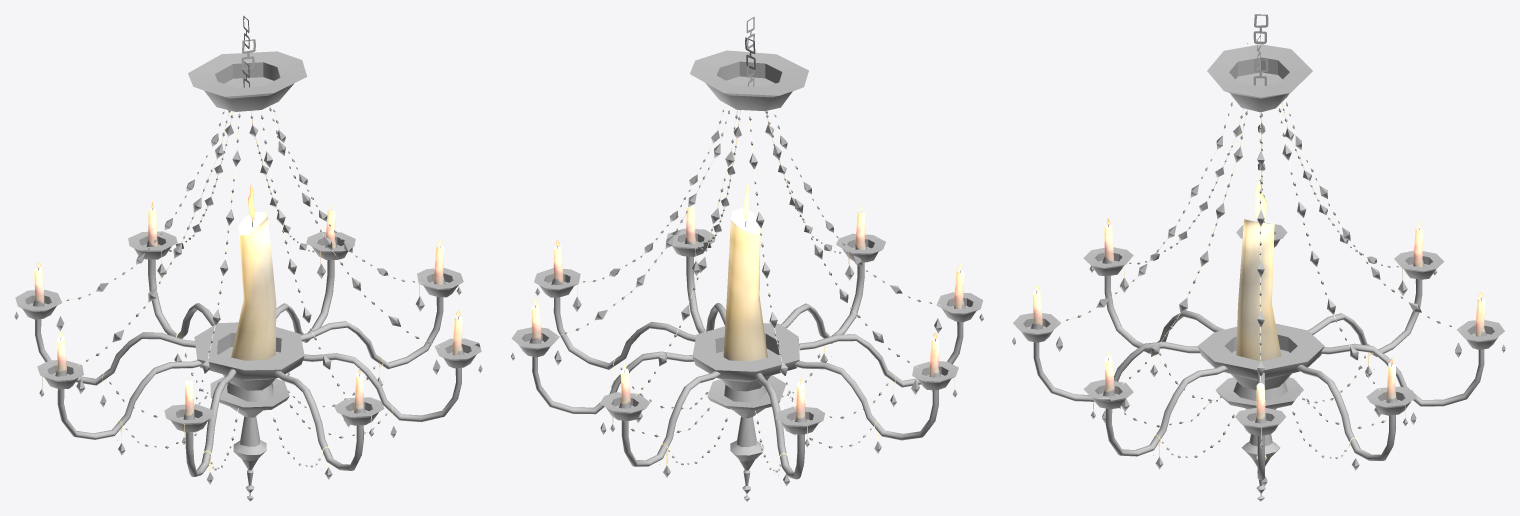
File: Keriya_Son_Prop6real.fbx
3 views of the same model, side by side, from view 1: azimuth 30°, elevation 25°; view 2: azimuth 150°, elevation 25°; view 3: azimuth 270°, elevation 25° (orthographic).
Visible parts, largest first — view 1: Box010, Gems, Cutout001; view 2: Box010, Gems, Cutout001; view 3: Box010, Gems, Cutout001.
Part boxes in pixels (x1,y1,x2,y2): Box010: [15, 51, 481, 501]; Gems: [14, 107, 482, 484]; Cutout001: [36, 15, 460, 469]; Box010: [511, 50, 983, 501]; Gems: [511, 110, 983, 486]; Cutout001: [533, 16, 961, 471]; Box010: [1013, 44, 1504, 501]; Gems: [1012, 102, 1505, 486]; Cutout001: [1035, 14, 1482, 460].
Bounding box in the file's own units: 194 × 213 × 196.
